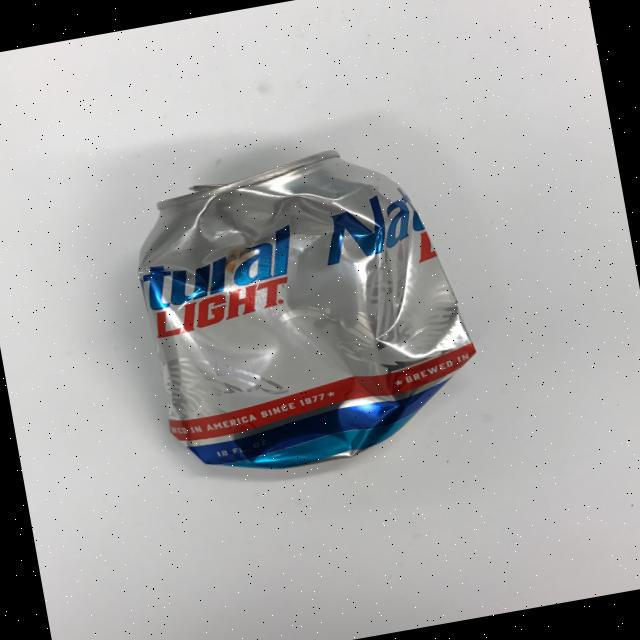metal: (121, 129, 492, 488)
